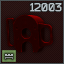MP-133%5153 Taktika Tula 12003 stock adapter: (0, 0, 64, 64)
